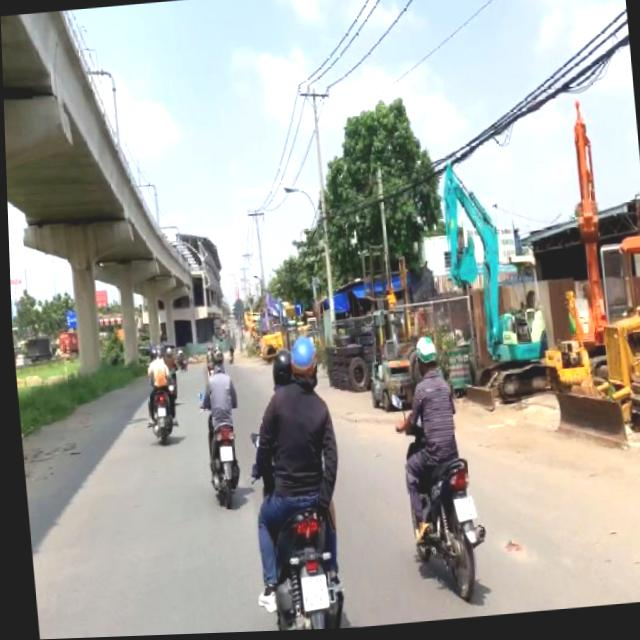Cac xe chi duoc re trai: (291, 304, 301, 319)
